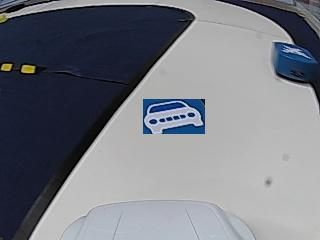prop: (273, 41, 317, 83)
